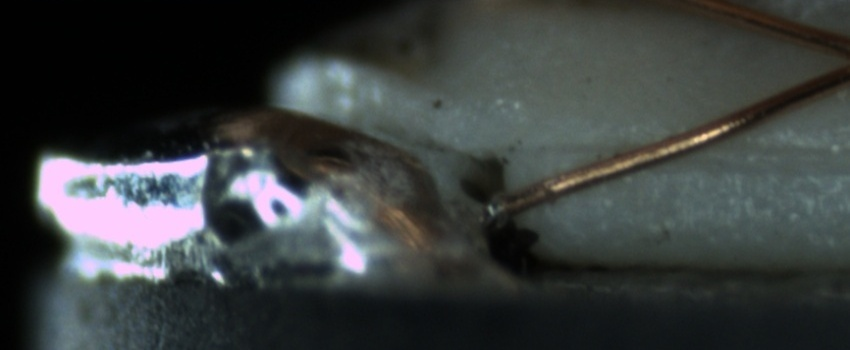DL: (533, 116, 846, 185)
